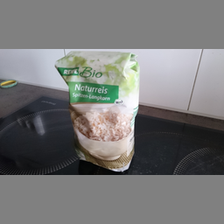rice: (55, 49, 141, 173)
